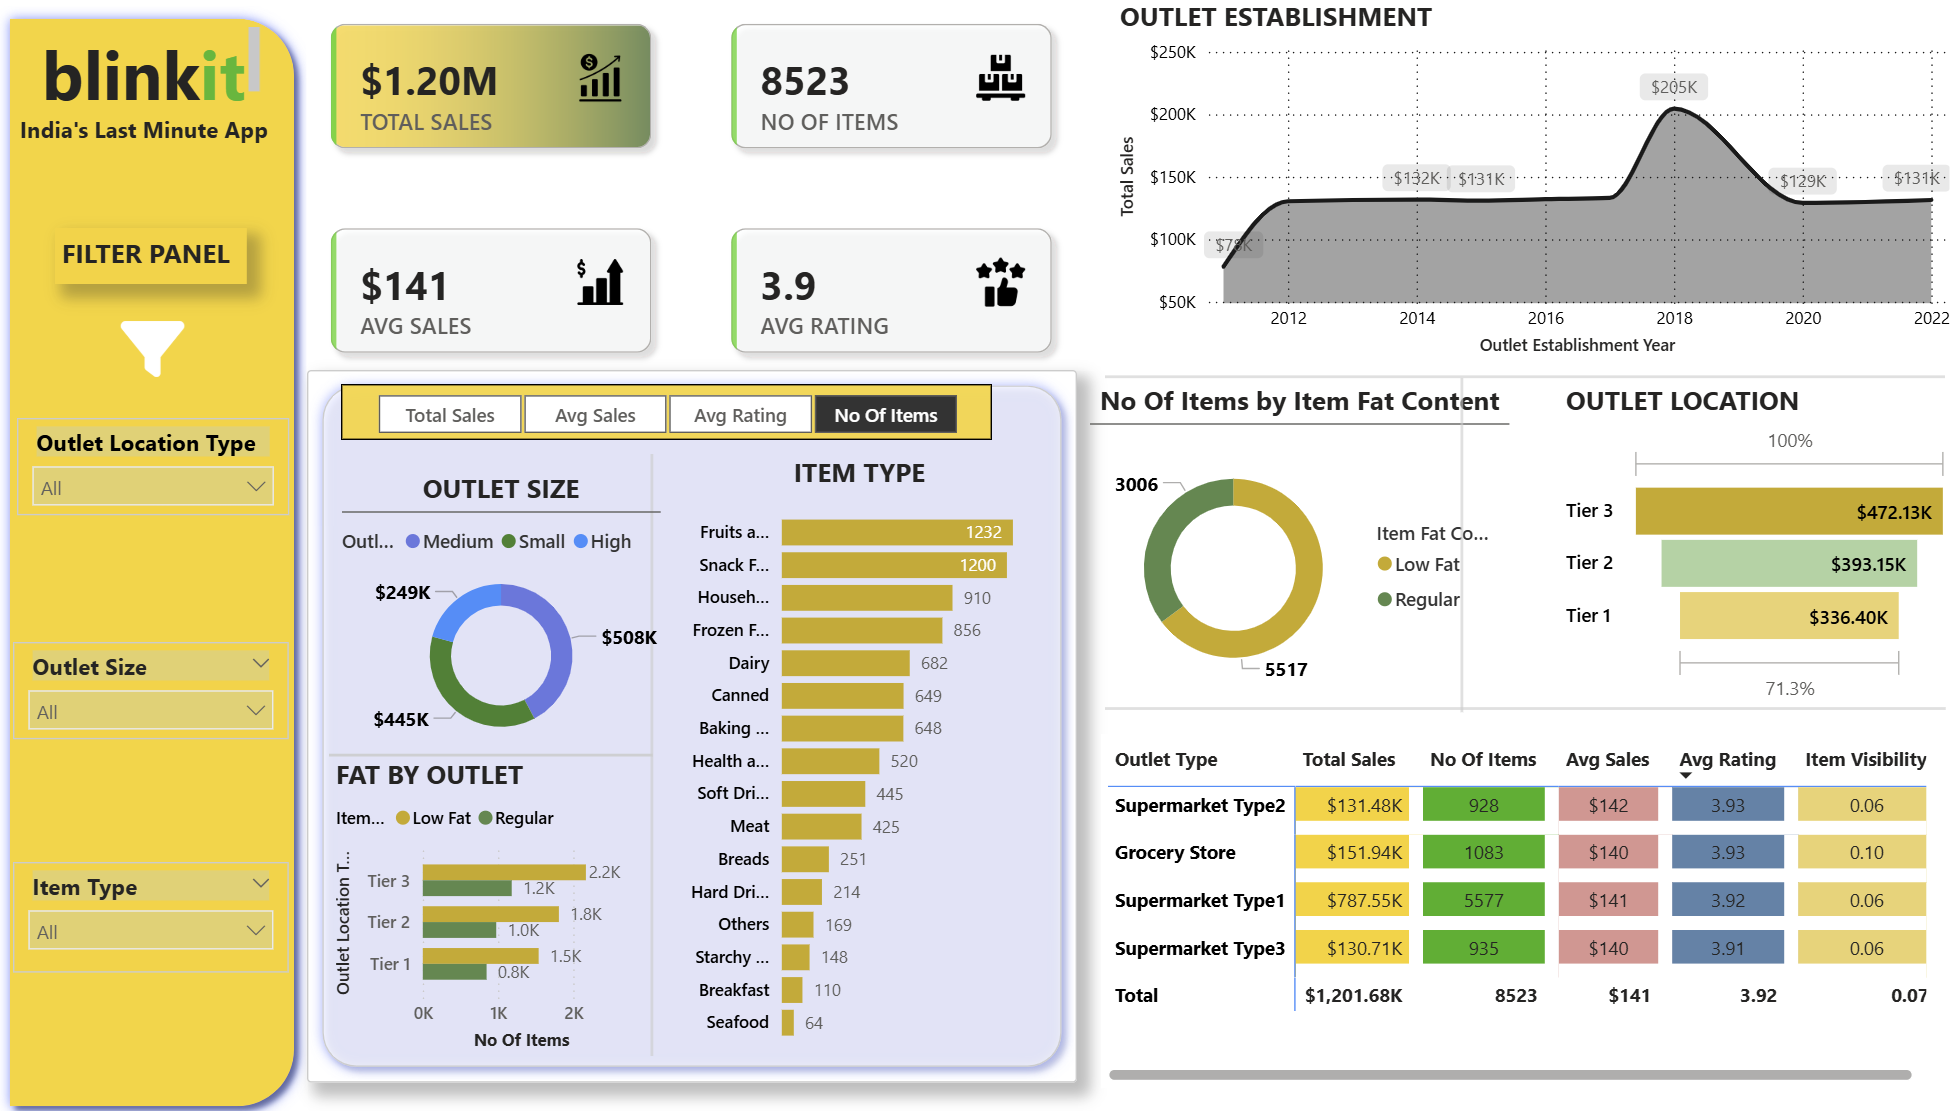

The page's visual inventory and layout, read from the dashboard file:
{"tool":"powerbi","page":{"name":"Page 1","canvas":[1400,800],"ordinal":0},"visuals":[{"type":"shape","box":[0,5.4,221.2,794.9],"z":0},{"type":"textbox","box":[27.1,15.7,165.7,71.4],"z":1000},{"type":"textbox","box":[11.4,77.1,210,41.4],"z":2000},{"type":"cardVisual","fields":{"Data":["BlinkIT Grocery Data (3).Total Sales","BlinkIT Grocery Data (3).No Of Items","BlinkIT Grocery Data (3).Avg Sales","BlinkIT Grocery Data (3).Avg Rating"]},"box":[221.2,1.3,549.6,269.4],"z":3000},{"type":"shape","box":[221.2,266.2,550,508.8],"z":4000},{"type":"donutChart","fields":{"Y":["BlinkIT Grocery Data (3).No Of Items"],"Category":["BlinkIT Grocery Data (3).Item Fat Content"]},"box":[776.1,274.8,309.7,234.6],"z":5000},{"type":"slicer","fields":{"Values":["Metrics.Metrics"]},"box":[246.2,275,465,40],"z":6000},{"type":"clusteredBarChart","title":"FAT BY OUTLET","fields":{"Y":["BlinkIT Grocery Data (3).No Of Items"],"Category":["BlinkIT Grocery Data (3).Outlet Location Type"],"Series":["BlinkIT Grocery Data (3).Item Fat Content"]},"box":[237.5,541.2,220,215],"z":7000},{"type":"shape","box":[237.5,521.2,231.2,38.8],"z":8000},{"type":"shape","box":[457.5,326.2,21.2,430],"z":9000},{"type":"barChart","title":"ITEM TYPE","fields":{"Y":["BlinkIT Grocery Data (3).No Of Items"],"Category":["BlinkIT Grocery Data (3).Item Type"]},"box":[478.8,326.2,275,430],"z":10000},{"type":"lineChart","title":"OUTLET ESTABLISHMENT","fields":{"Category":["BlinkIT Grocery Data (3).Outlet Establishment Year"],"Y":["BlinkIT Grocery Data (3).Total Sales"]},"box":[797.5,0,602.5,260],"z":11000},{"type":"shape","box":[791.2,253.8,600,32.5],"z":12000},{"type":"donutChart","title":"OUTLET SIZE","fields":{"Y":["BlinkIT Grocery Data (3).Total Sales"],"Category":["BlinkIT Grocery Data (3).Outlet Size"]},"box":[241.3,336.5,237.3,203.8],"z":13000},{"type":"shape","box":[1026.2,271.2,41.2,238.8],"z":14000},{"type":"funnel","title":"OUTLET LOCATION ","fields":{"Y":["BlinkIT Grocery Data (3).Total Sales"],"Category":["BlinkIT Grocery Data (3).Outlet Location Type"]},"box":[1115.3,274.8,284.2,234.6],"z":15000},{"type":"shape","box":[790.9,492,600.5,32.2],"z":16000},{"type":"pivotTable","fields":{"Rows":["BlinkIT Grocery Data (3).Outlet Type"],"Values":["BlinkIT Grocery Data (3).Total Sales","BlinkIT Grocery Data (3).No Of Items","BlinkIT Grocery Data (3).Avg Sales","BlinkIT Grocery Data (3).Avg Rating","Avg(BlinkIT Grocery Data (3).Item Visibility)"]},"box":[788.6,525.7,594.3,252.9],"z":17000},{"type":"slicer","fields":{"Values":["BlinkIT Grocery Data (3).Outlet Location Type"]},"box":[14.7,300.3,194.4,69.7],"z":18000},{"type":"slicer","fields":{"Values":["BlinkIT Grocery Data (3).Outlet Size"]},"box":[12.1,459.8,197.1,69.7],"z":19000},{"type":"slicer","fields":{"Values":["BlinkIT Grocery Data (3).Item Type"]},"box":[12.1,616.6,197.1,79.1],"z":20000},{"type":"textbox","box":[41.4,164.3,137.1,40],"z":21000},{"type":"image","box":[82.4,225.6,56,49.8],"z":22000}]}

Visuals, with their boxes in screenshot pixels (x1, y1, x2, y2), scaled from the page's 1400x800 canvas onto the 1952x1111 screenshot:
shape: l=0, t=7, r=308, b=1110
textbox: l=38, t=22, r=269, b=121
textbox: l=16, t=107, r=309, b=165
cardVisual - BlinkIT Grocery Data (3).Total Sales x BlinkIT Grocery Data (3).No Of Items: l=308, t=2, r=1075, b=376
shape: l=308, t=370, r=1075, b=1076
donutChart - BlinkIT Grocery Data (3).No Of Items x BlinkIT Grocery Data (3).Item Fat Content: l=1082, t=382, r=1514, b=707
slicer - Metrics.Metrics: l=343, t=382, r=992, b=437
"FAT BY OUTLET" clusteredBarChart: l=331, t=752, r=638, b=1050
shape: l=331, t=724, r=654, b=778
shape: l=638, t=453, r=667, b=1050
"ITEM TYPE" barChart: l=668, t=453, r=1051, b=1050
"OUTLET ESTABLISHMENT" lineChart: l=1112, t=0, r=1951, b=361
shape: l=1103, t=352, r=1940, b=398
"OUTLET SIZE" donutChart: l=336, t=467, r=667, b=750
shape: l=1431, t=377, r=1488, b=708
"OUTLET LOCATION " funnel: l=1555, t=382, r=1951, b=707
shape: l=1103, t=683, r=1940, b=728
pivotTable - BlinkIT Grocery Data (3).Outlet Type x BlinkIT Grocery Data (3).Total Sales: l=1100, t=730, r=1928, b=1081
slicer - BlinkIT Grocery Data (3).Outlet Location Type: l=20, t=417, r=292, b=514
slicer - BlinkIT Grocery Data (3).Outlet Size: l=17, t=639, r=292, b=735
slicer - BlinkIT Grocery Data (3).Item Type: l=17, t=856, r=292, b=966
textbox: l=58, t=228, r=249, b=284
image: l=115, t=313, r=193, b=382
